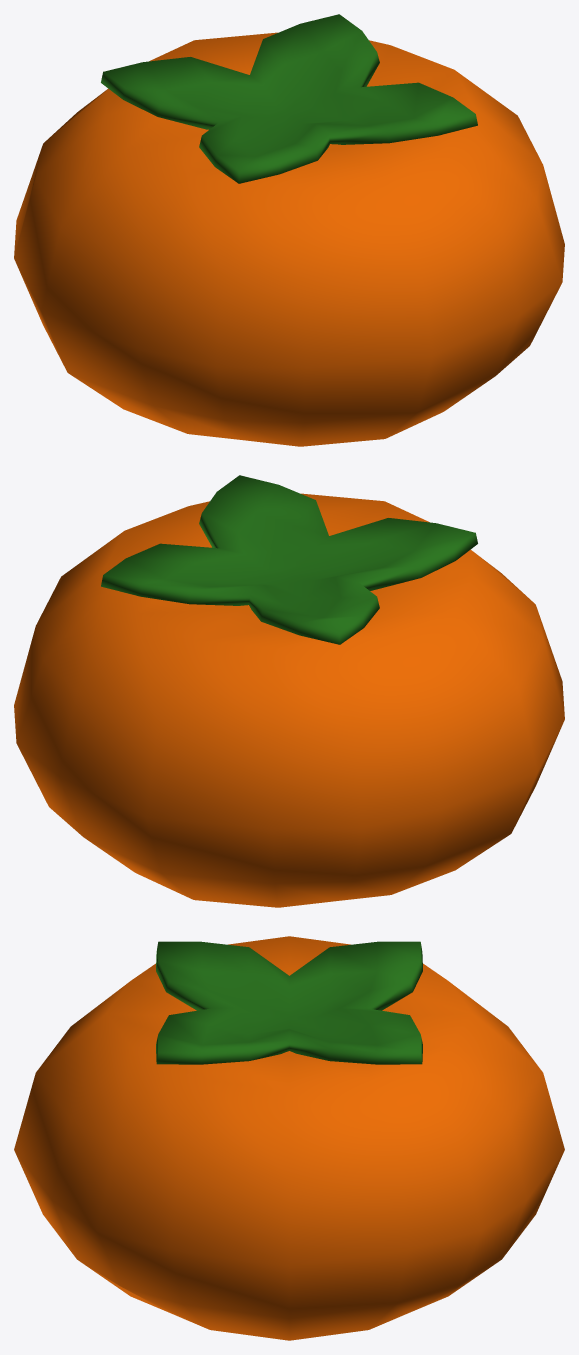
Rendered from kaki01.fbx.
3 views of the same model, one above another, from view 1: azimuth 30°, elevation 25°; view 2: azimuth 150°, elevation 25°; view 3: azimuth 270°, elevation 25° (orthographic). The views are drawn at different scales.
Visible parts, largest first — view 1: Base.006, heta; view 2: Base.006, heta; view 3: Base.006, heta.
Boxes of the visible parts, x1,y1,x2,y2 form: Base.006: [14, 32, 564, 446]; heta: [101, 14, 477, 183]; Base.006: [14, 493, 564, 907]; heta: [101, 475, 477, 644]; Base.006: [14, 936, 564, 1340]; heta: [156, 941, 422, 1064].
Size of the model in its own units: 1.81 by 0.9606 by 1.81.
